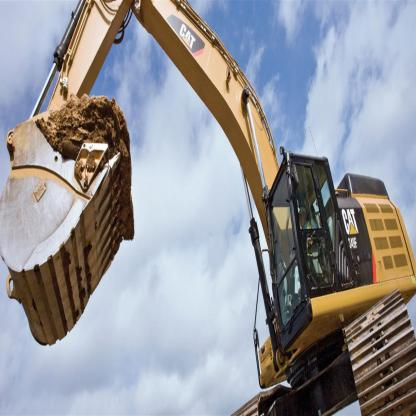excavator: (8, 3, 416, 416)
